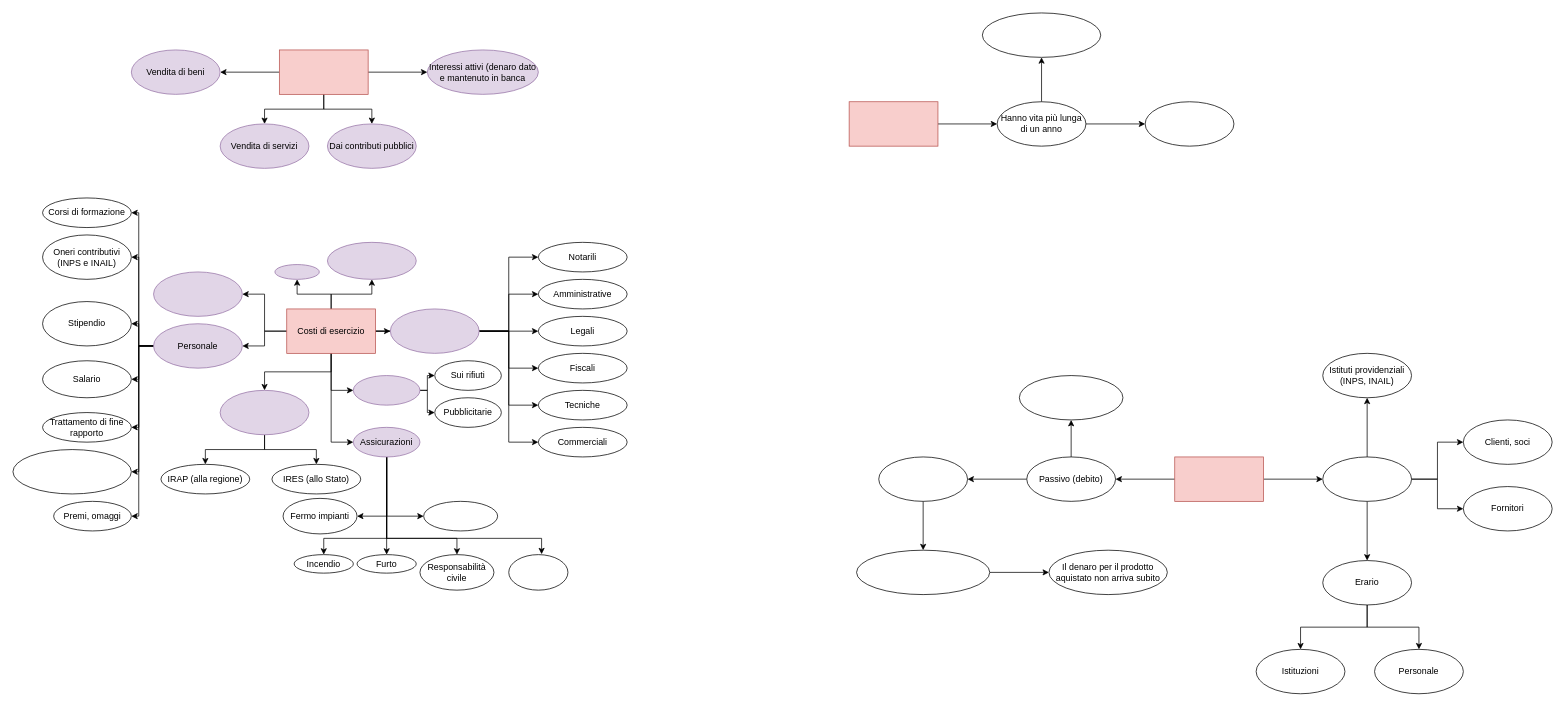
Some shapes in this 1565 by 707 pixel diagram are drawn without their labels. The shapes that lost their labels are listed below. From the top down, each one's centre as x and y in pixels, then its label:
point (1041, 34): Fabbricati, macchinari, attrezzature, impianti, software
point (323, 71): Ricavi
point (893, 123): Cosi per beni con valenza pluriennale
point (1189, 123): periodo tra 1/01 e 31/12
point (296, 271): IMU
point (371, 260): Affitti, noleggi, fiere, interessi passivi
point (197, 293): Materiali
point (434, 330): Consulenze
point (386, 390): Tasse
point (1071, 397): Fornitori, soci, erario, personale, INPS, INAIL
point (264, 412): Imposte fiscali dirette
point (71, 471): Dispositivi di protezione individuale, visite mediche
point (923, 478): Debito cliente
point (1219, 478): Stato Patrimoniale (SP)
point (1367, 478): Attivo (credito)
point (460, 516): Infortuni e malattie
point (538, 572): Rischio mancato incasso
point (923, 572): Acconti dati quando si ordina qualcosa di persona
